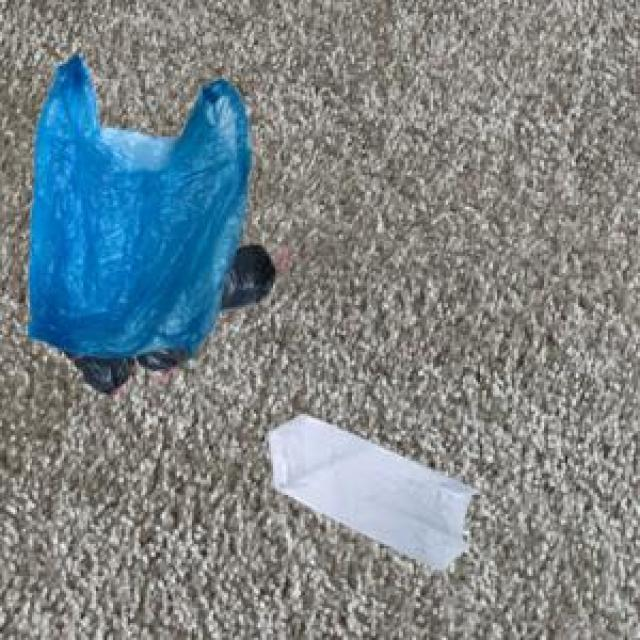miscellaneous trash: (70, 241, 271, 390)
